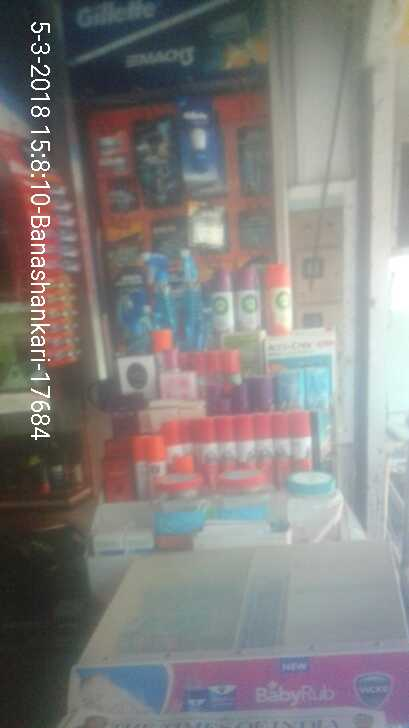gillette: (186, 104, 231, 190)
